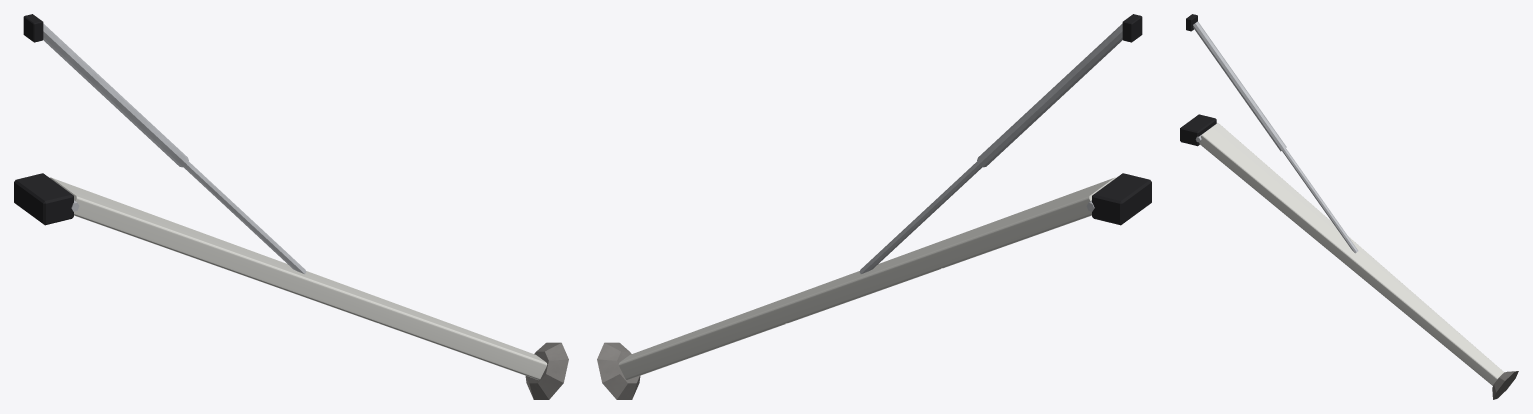
Rendered from ax_gear_05_booster_leg_xl_deployed.glb.
3 views of the same model, side by side, from view 1: azimuth 30°, elevation 25°; view 2: azimuth 150°, elevation 25°; view 3: azimuth 330°, elevation 25° (orthographic). The views are drawn at different scales.
Parts seen in each view (by area): view 1: leg_beam, leg_clevis, leg_pusher_outer, leg_footpad, leg_pusher_inner; view 2: leg_beam, leg_clevis, leg_pusher_outer, leg_footpad, leg_pusher_inner; view 3: leg_beam, leg_pusher_outer, leg_clevis, leg_pusher_inner, leg_footpad.
Boxes of the visible parts, x1,y1,x2,y2 form: leg_beam: [50, 177, 547, 380]; leg_clevis: [14, 14, 73, 225]; leg_pusher_outer: [43, 23, 188, 167]; leg_footpad: [525, 342, 568, 399]; leg_pusher_inner: [183, 161, 306, 273]; leg_beam: [618, 177, 1115, 380]; leg_clevis: [1092, 14, 1151, 225]; leg_pusher_outer: [977, 23, 1122, 167]; leg_footpad: [597, 342, 640, 399]; leg_pusher_inner: [859, 161, 982, 273]; leg_beam: [1199, 123, 1504, 385]; leg_pusher_outer: [1193, 21, 1286, 151]; leg_clevis: [1180, 14, 1216, 146]; leg_pusher_inner: [1282, 148, 1358, 253]; leg_footpad: [1492, 371, 1518, 399].
Bounding box in the file's own units: 8.2 × 7.4 × 0.857.
4 materials, 2 textured.
